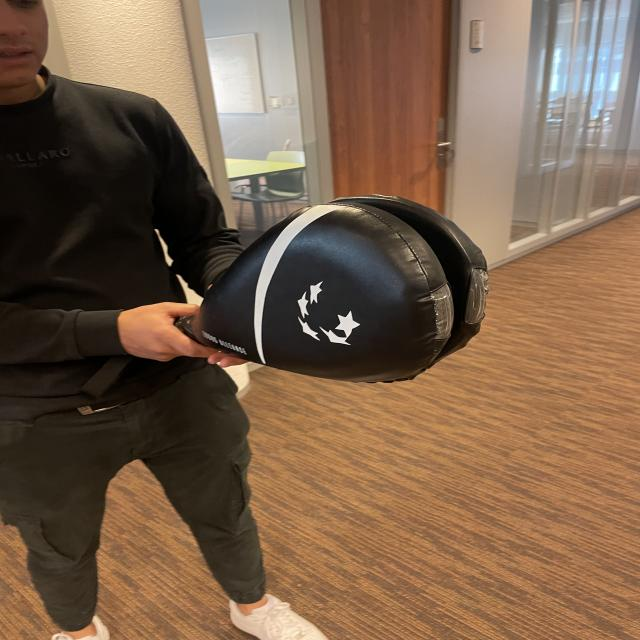paddle: (199, 195, 488, 383)
